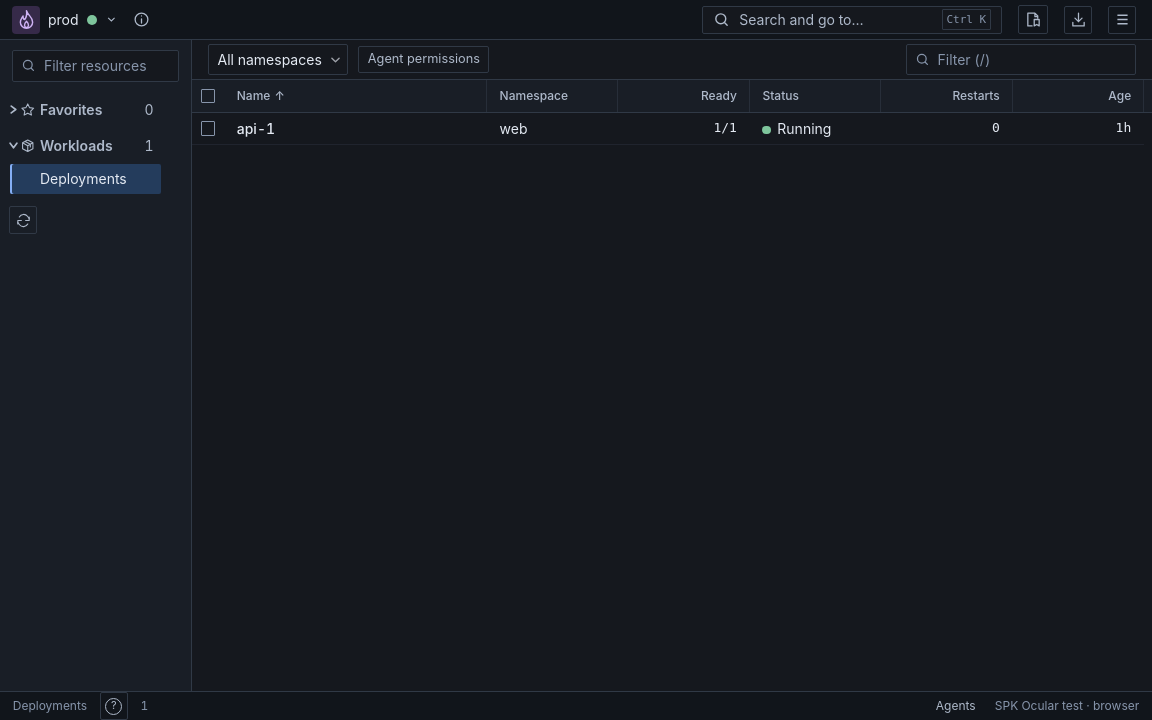
Test: actions in the workspace › opens Deployment Scale directly from the toolbar with the pinned object and existing review
Step 1. Click the text "api-1" → (256, 128), box left=237, top=120, right=275, bottom=137
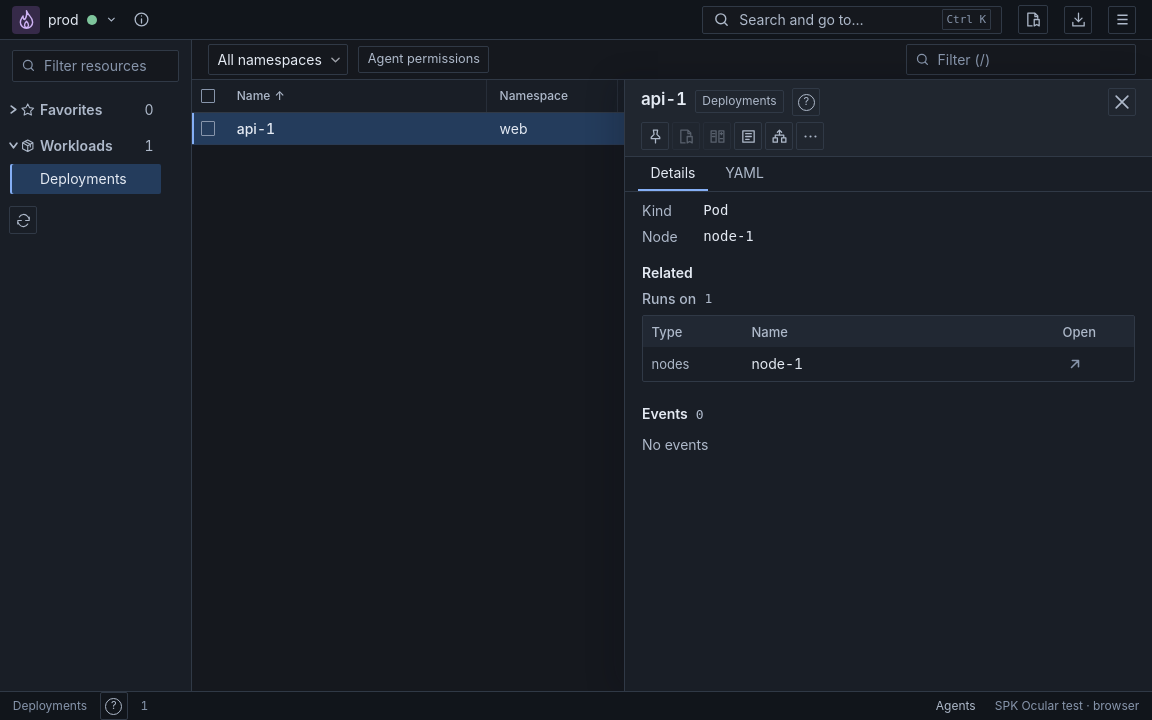
Step 2. Click the button named "Actions" → (810, 136), box left=796, top=122, right=824, bottom=150
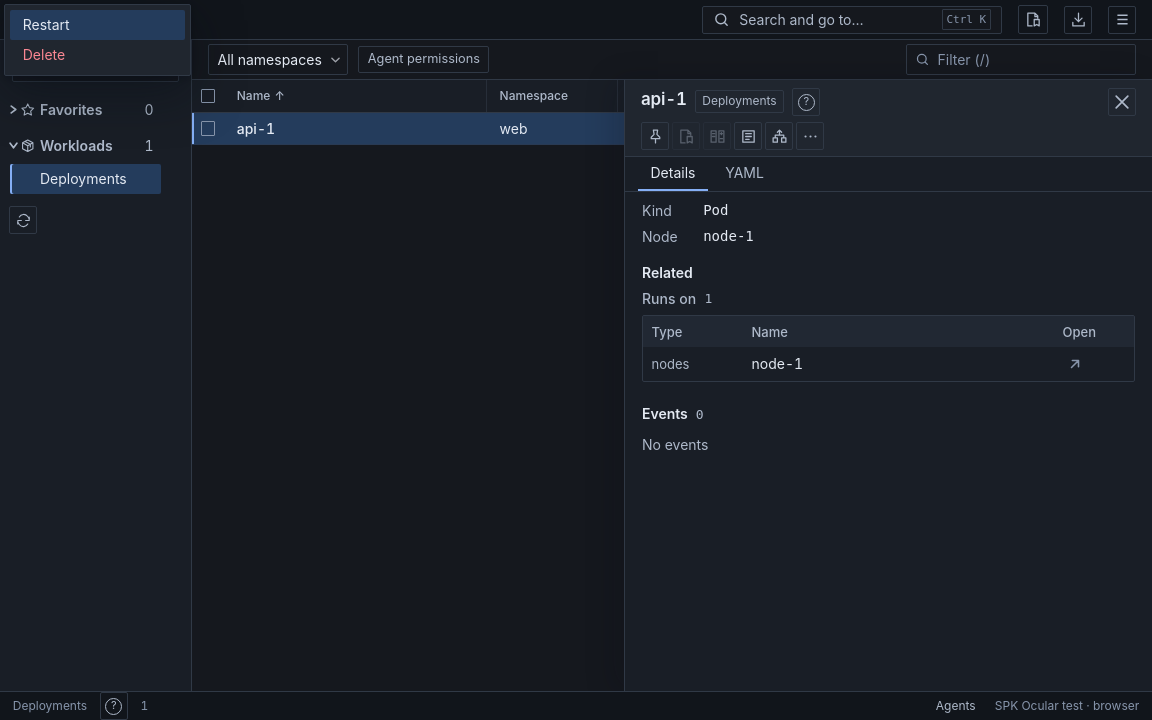
expect the menu item "Restart" is shown: met, box left=10, top=10, right=185, bottom=40
Step 3. Press Escape
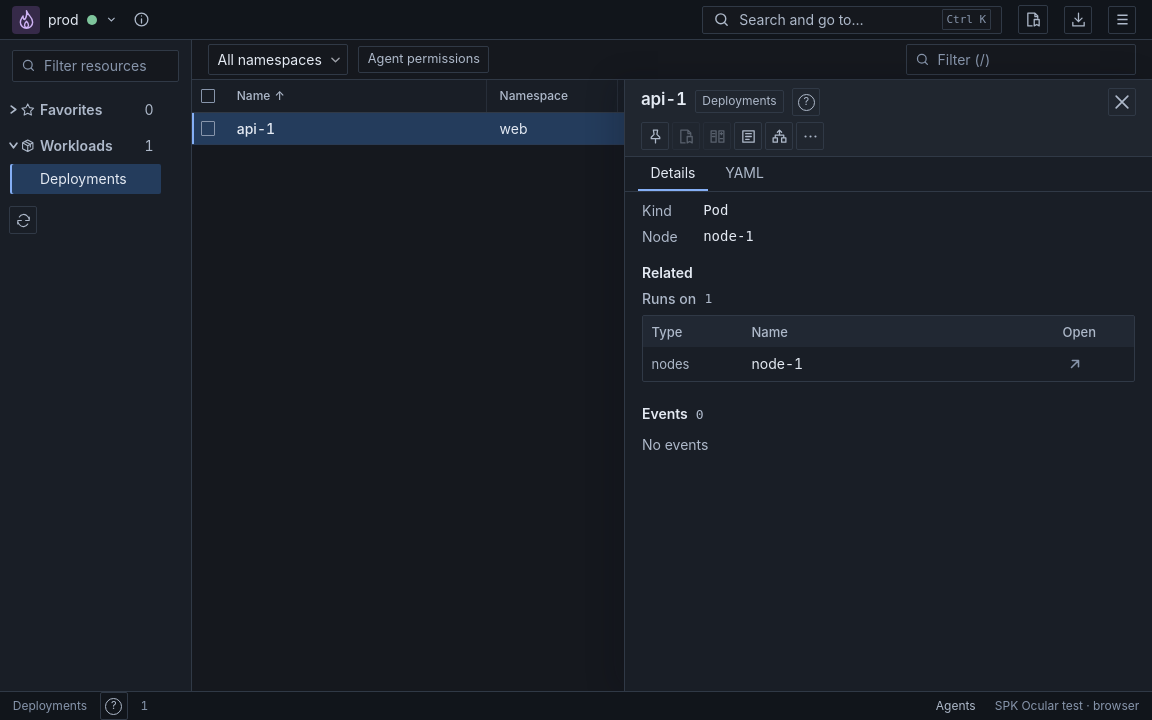
Step 4. Click the button named "Scale" → (779, 136), box left=765, top=122, right=793, bottom=150
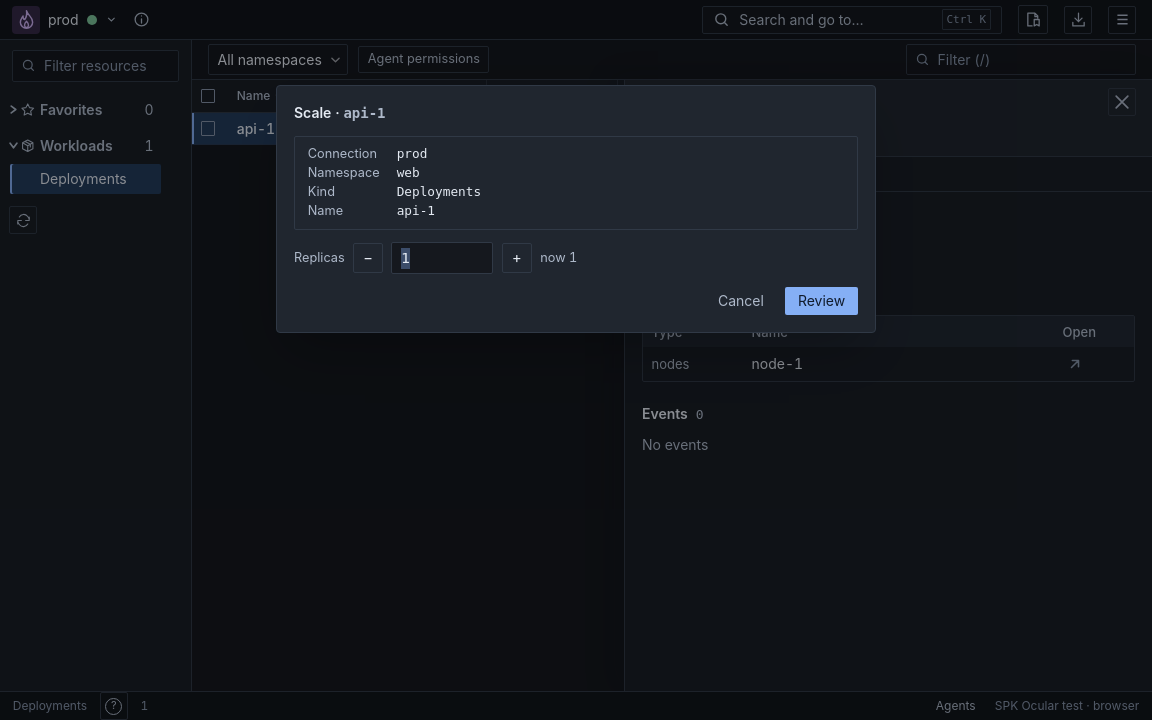
expect the field holds "1": met, box left=392, top=242, right=494, bottom=274
